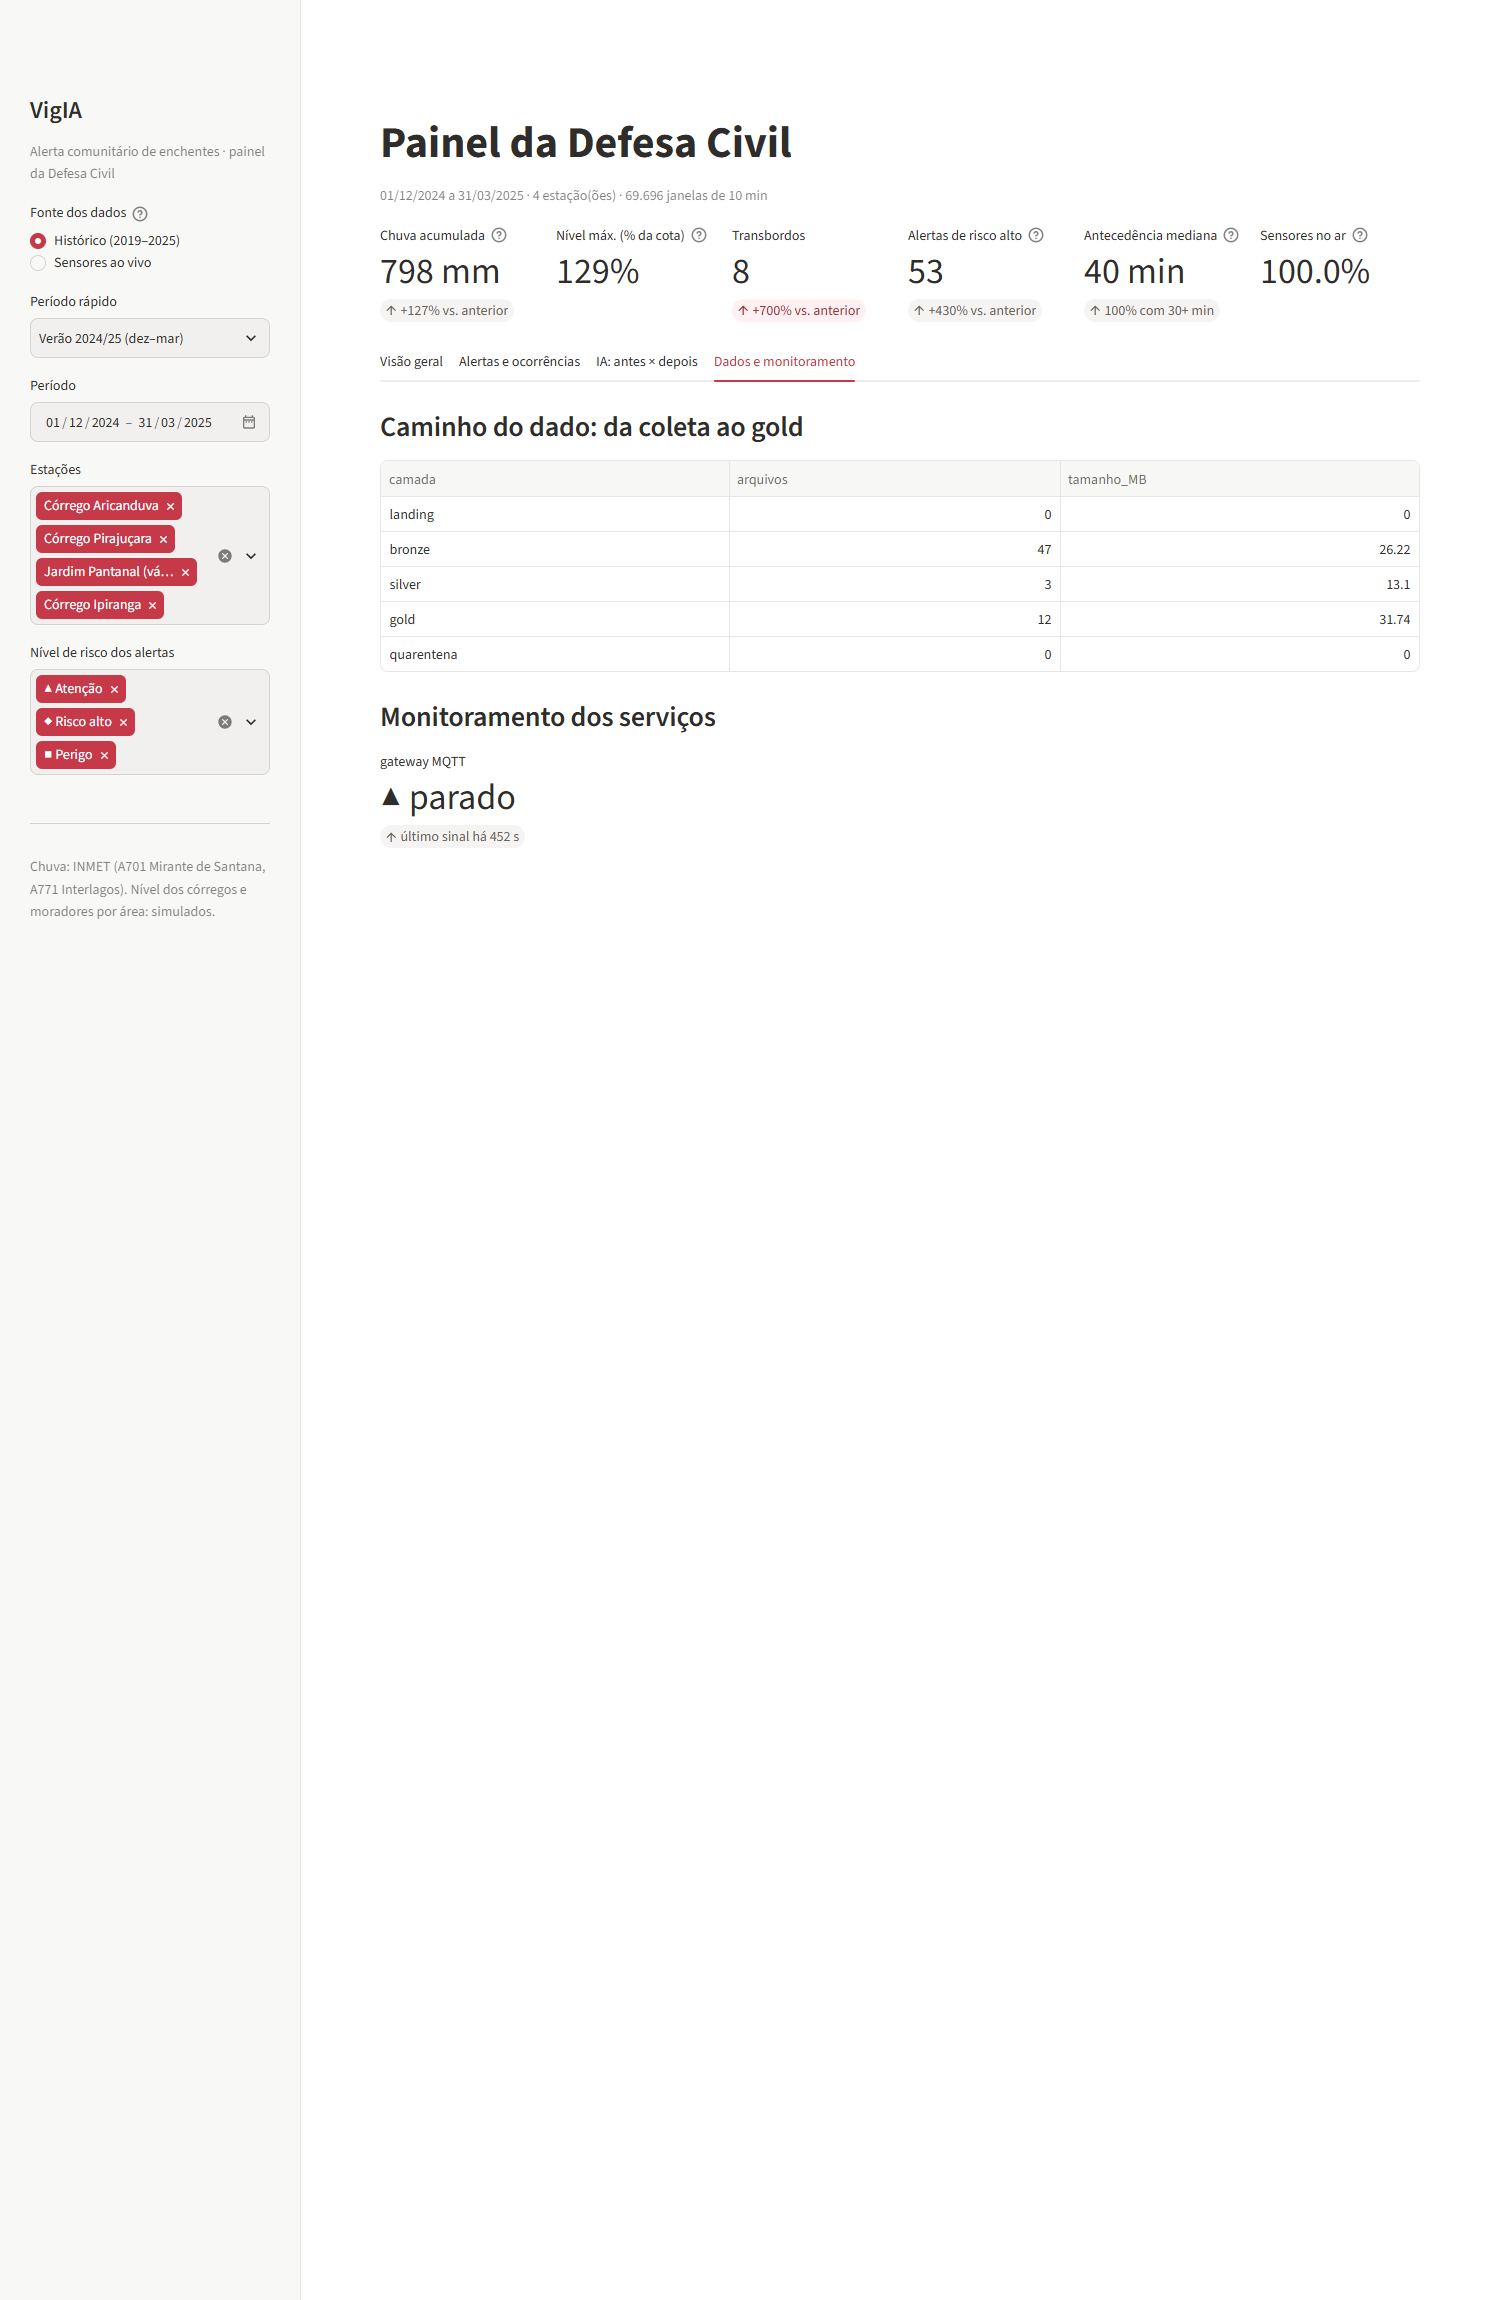

Layout of this report page (visuals, bound fields, positions):
{"tool":"powerbi","page":{"name":"Página 1","canvas":[1920,1080],"ordinal":0},"visuals":[{"type":"htmlContent443BE3AD55E043BF878BED274D3A6855","fields":{"content":["Medidas.VigIA Painel HTML"]},"box":[0,0,1920,1079.6],"z":0},{"type":"slicer","fields":{"Values":["dim_data.data"]},"box":[42.3,134.2,300.5,52.5],"z":1},{"type":"slicer","fields":{"Values":["dim_estacao.nome"]},"box":[367.7,137.1,356,52.5],"z":2}]}

Visuals, with their boxes on the page's 1920x1080 design canvas (x1, y1, x2, y2). These are canvas units, not pixel positions in the 1500x2300 screenshot, which may show the page scaled, cropped or inside an application window:
htmlContent443BE3AD55E043BF878BED274D3A6855 - Medidas.VigIA Painel HTML: [left=0, top=0, right=1920, bottom=1080]
slicer - dim_data.data: [left=42, top=134, right=343, bottom=187]
slicer - dim_estacao.nome: [left=368, top=137, right=724, bottom=190]
